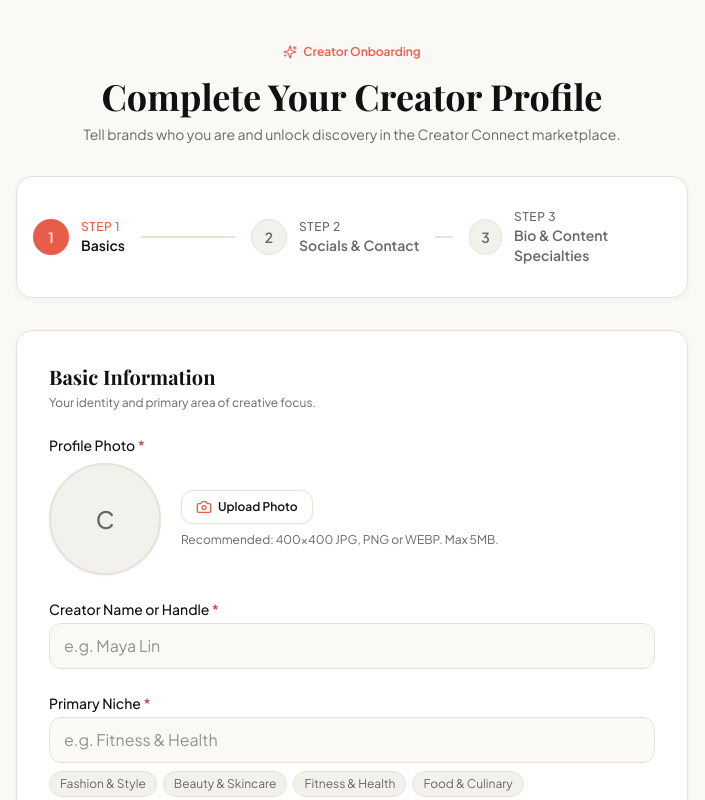
it: Phase 4B Frontend Profiles & Public Views Test Suite › 6. Creator Onboarding (3-Step) › blocks proceeding to step 2 when profile photo is missing and displays Profile photo is required.
The width and height of the screenshot is (705, 800).
Check: the heading "Complete Your Creator Profile" is shown, box [102, 72, 602, 120]
Note: Fill in name, niche, location, but leave photo empty
Type "Maya Lin" into the field with placeholder "e.g. Maya Lin" at (352, 646), box [49, 623, 655, 669]
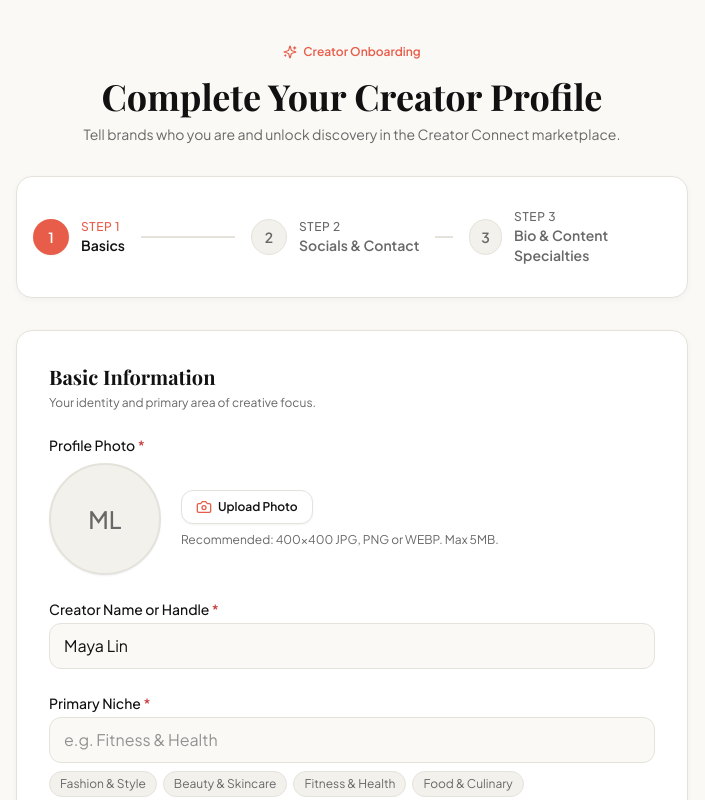
Type "Fashion & Style" into the field with placeholder "e.g. Fitness & Health" at (352, 740), box [49, 717, 655, 763]
(page scrolled)
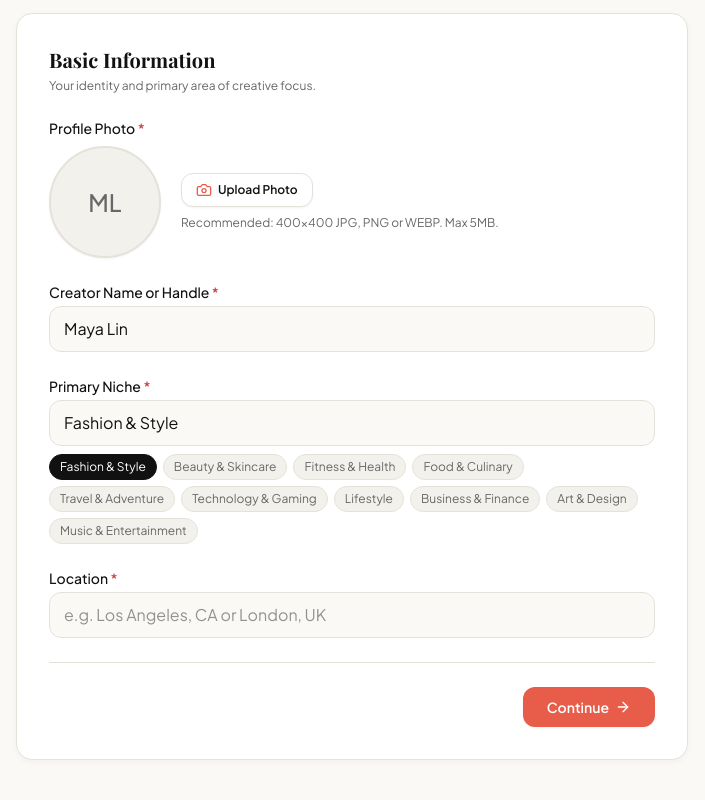
Type "Los Angeles, CA" into the field with placeholder "e.g. Los Angeles, CA or London, UK" at (352, 615), box [49, 592, 655, 638]
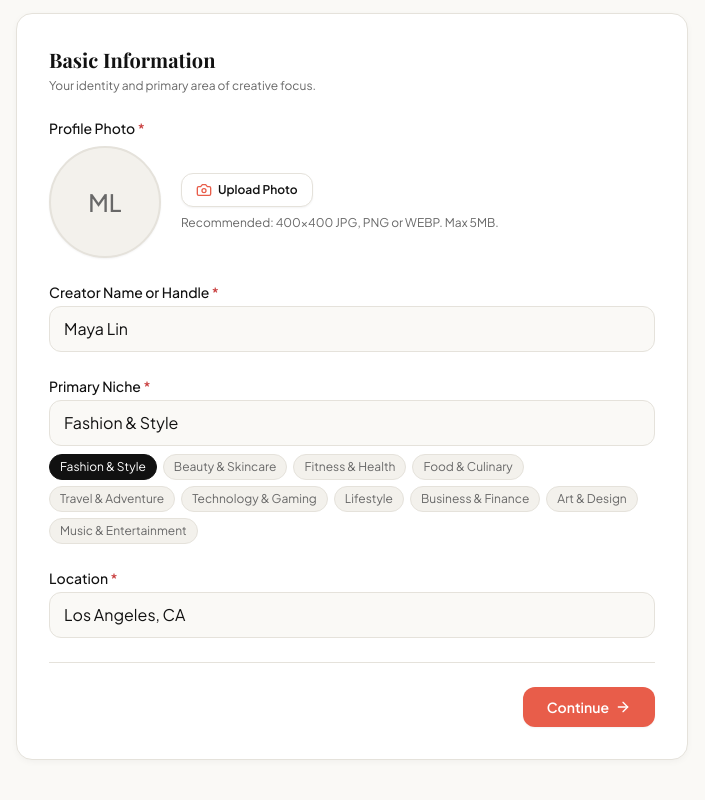
Note: Click continue
Click the button "Continue" at (589, 707), box [523, 687, 655, 727]
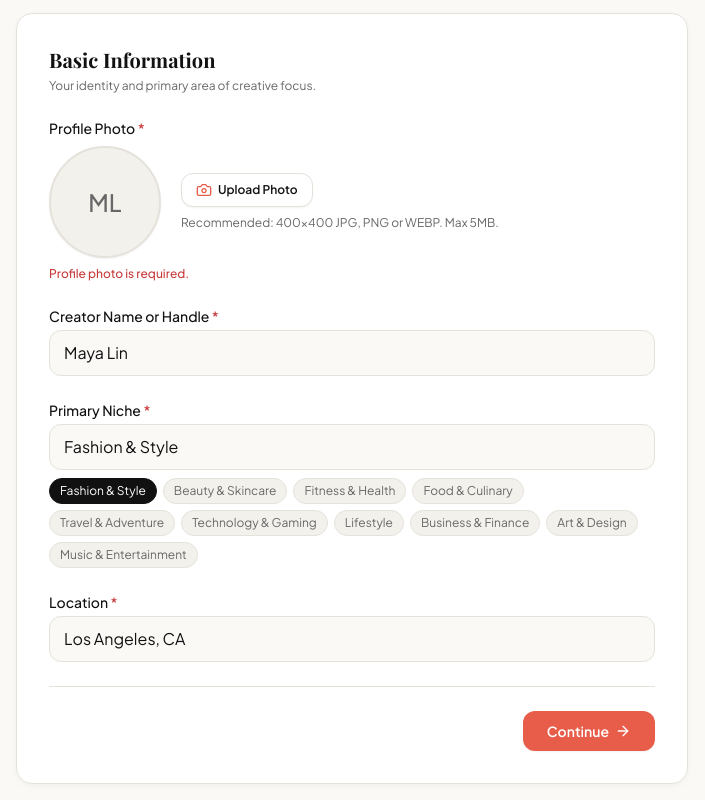
Check: the heading "Basic Information" is shown, box [49, 46, 215, 73]
Check: the text "Profile photo is required." is shown, box [49, 266, 189, 281]
